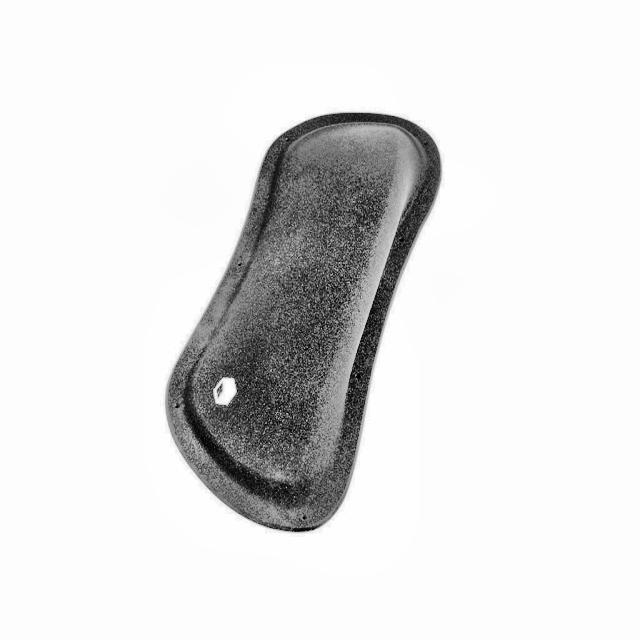Hold: (154, 113, 444, 538)
